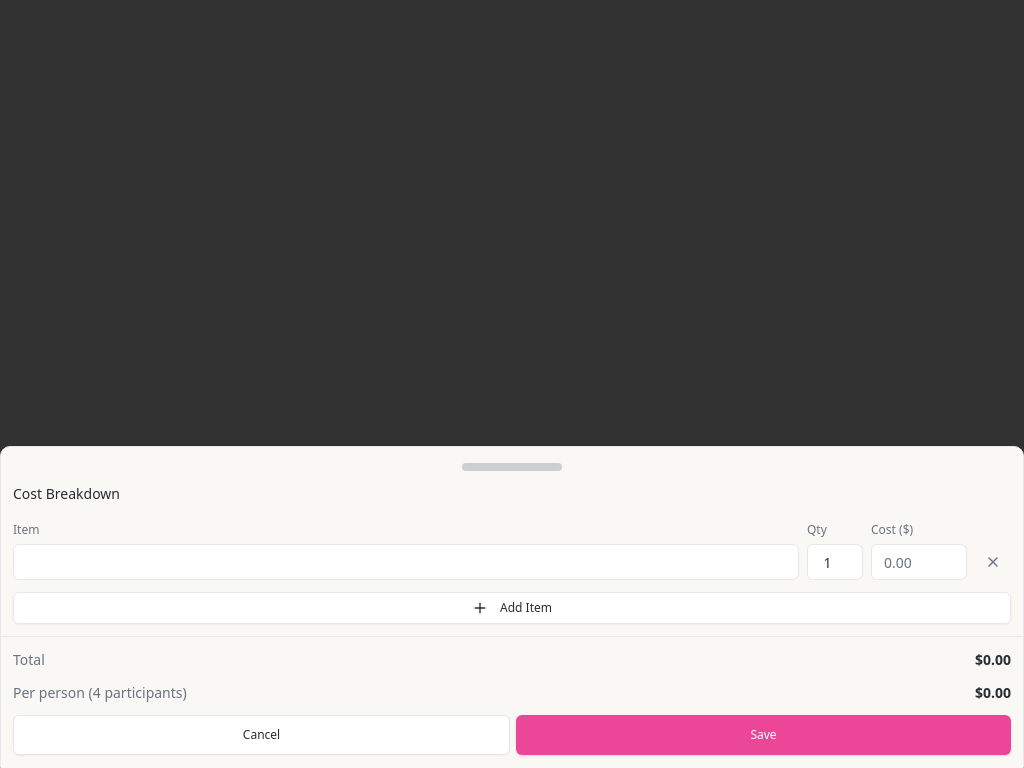
Test case: CostCalculatorDrawer › computes total and per-person cost live
The width and height of the screenshot is (1024, 768).
In the field: (406, 562) [13, 544, 799, 580], type "Court"
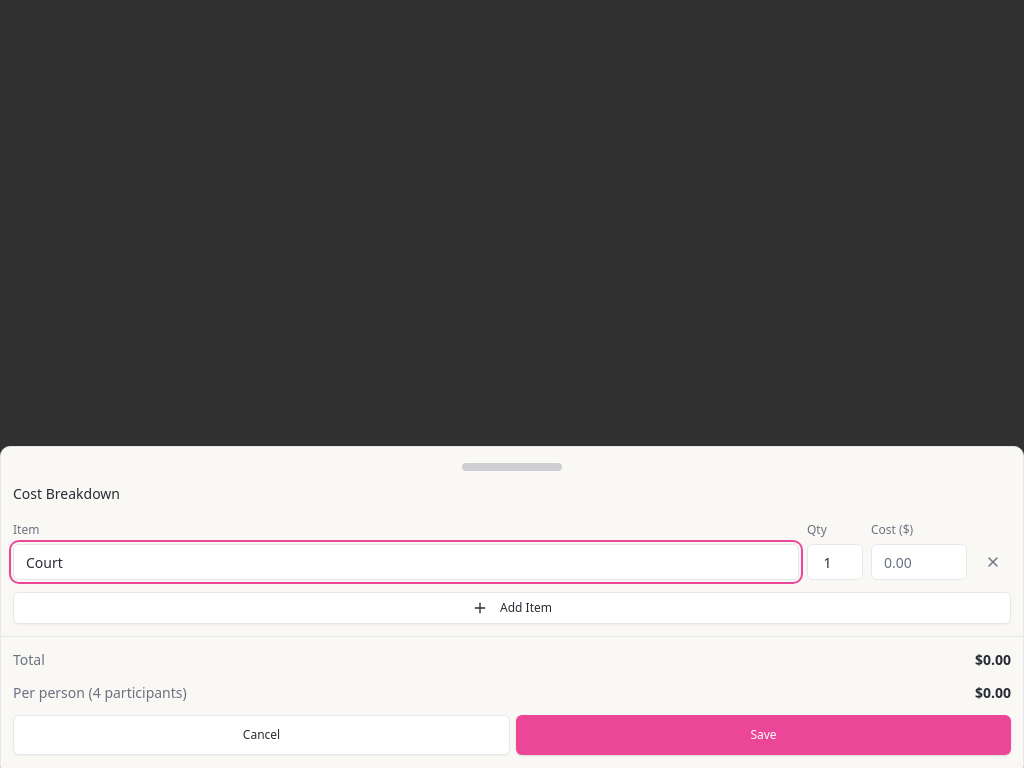
In the number field with placeholder "0.00": (919, 562) [871, 544, 967, 580], type "100"
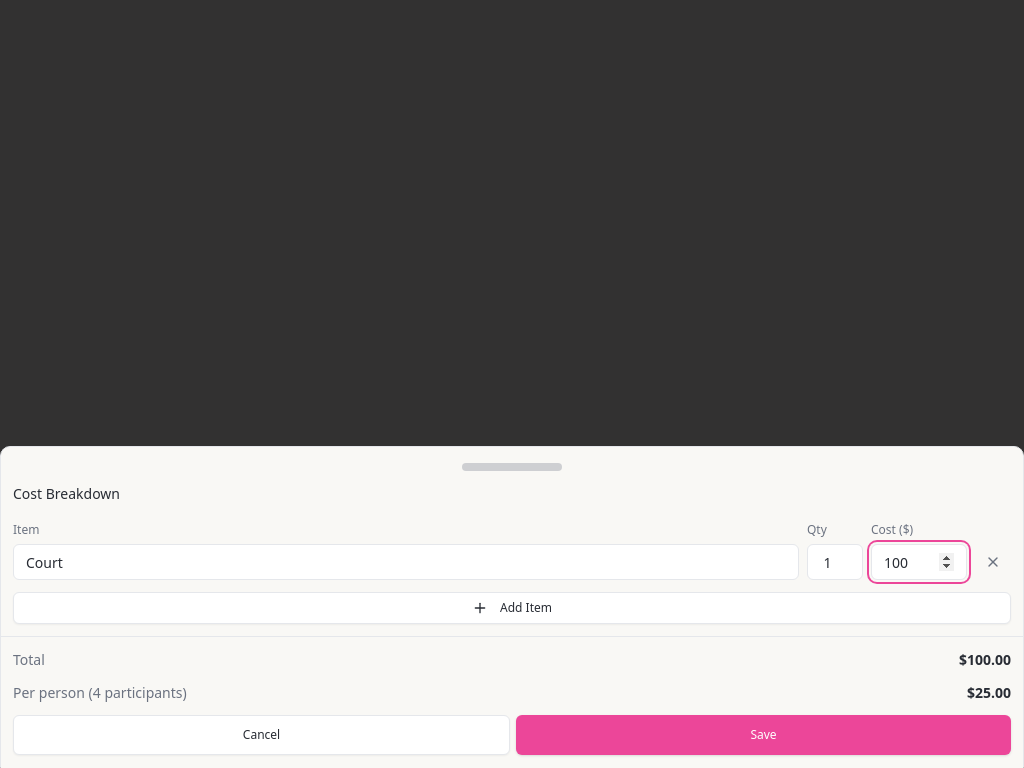
Expected: the text "$100.00" is shown, [959, 649, 1011, 670]
Expected: the text "$25.00" is shown, [967, 682, 1011, 703]
